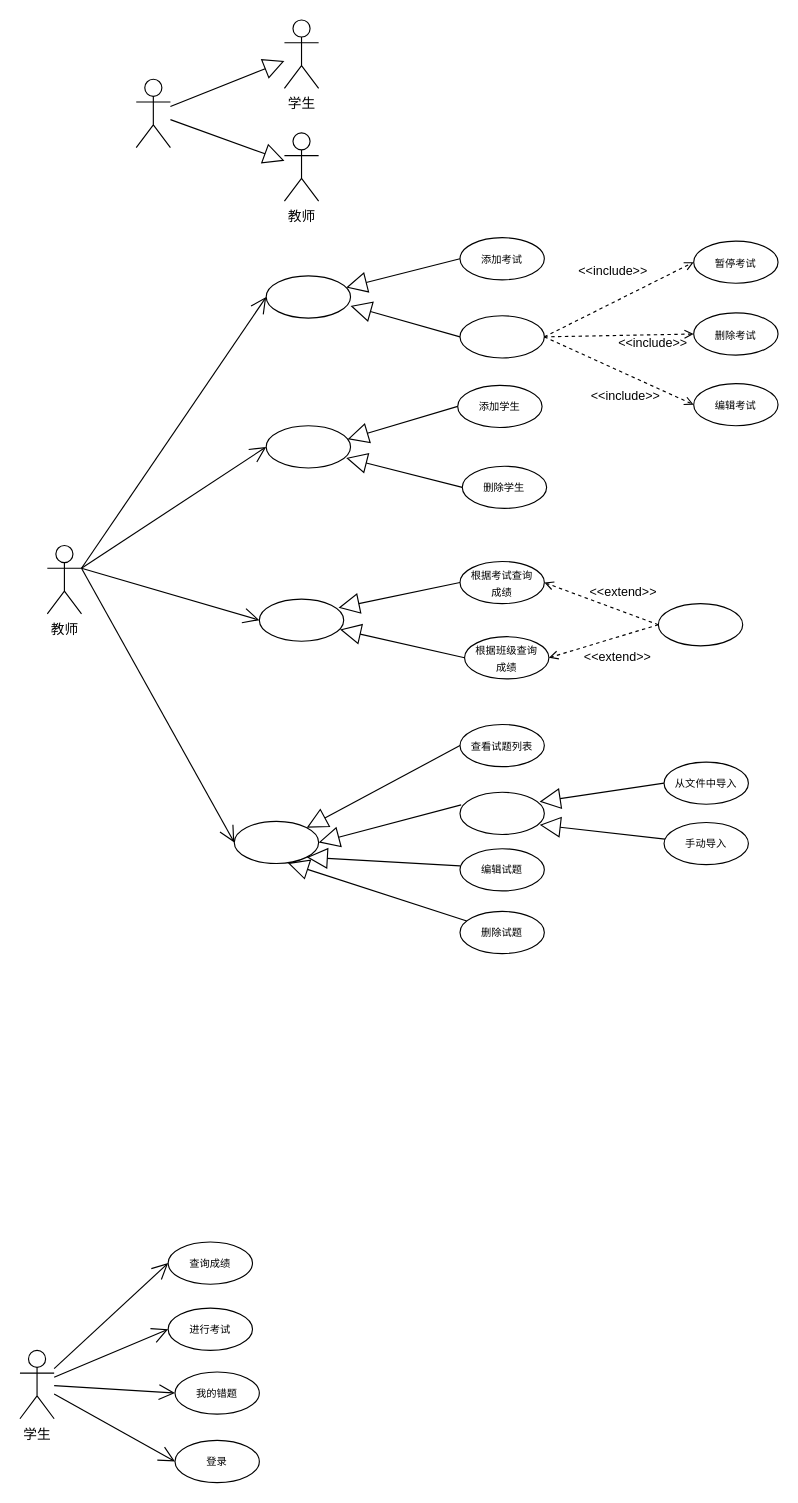
The diagram is 798 pixels wide and 1503 high, and some of its shapes have lost their labels. The shapes that lost their labels are listed below. From the top down, each one's centre as x and y in pixels, then its label:
At point (152, 113): "用户".
At point (308, 296): "考试管理".
At point (501, 336): "考试查询".
At point (308, 446): "学生管理".
At point (301, 619): "成绩查询".
At point (700, 624): "导出考试成绩".
At point (501, 812): "添加试题".
At point (276, 842): "试题管理".
